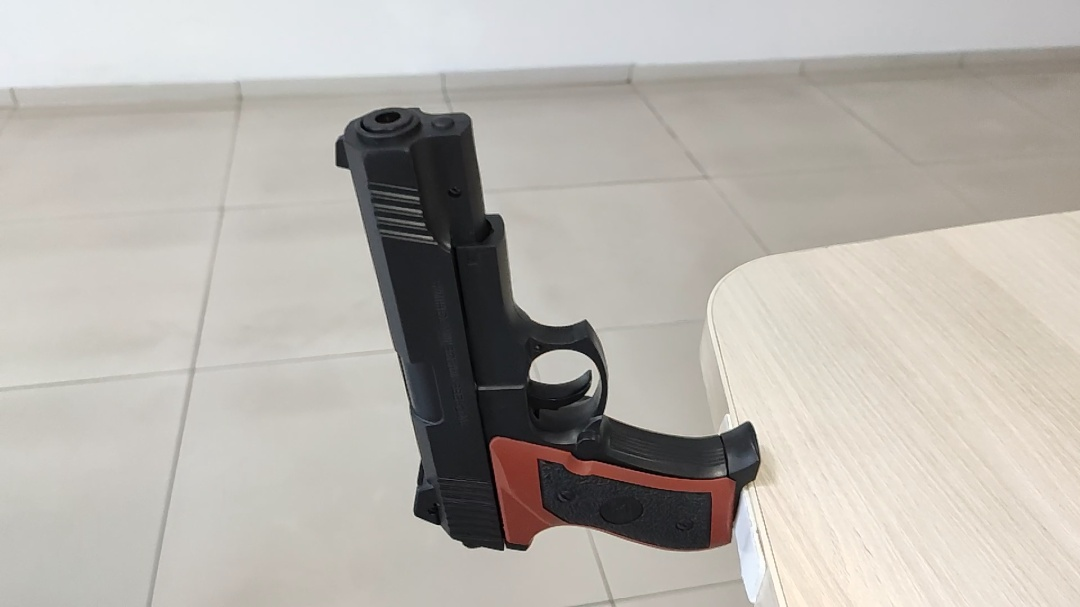gun: (597, 344, 637, 380)
